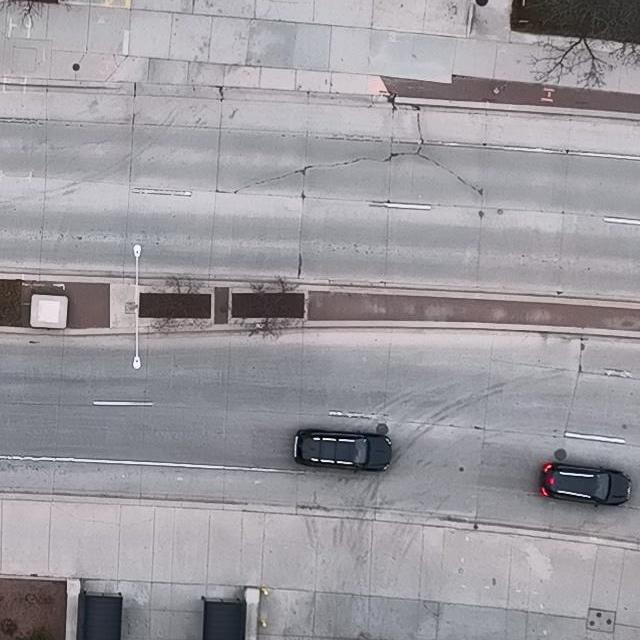car: (539, 461, 633, 510), (294, 429, 392, 473)
